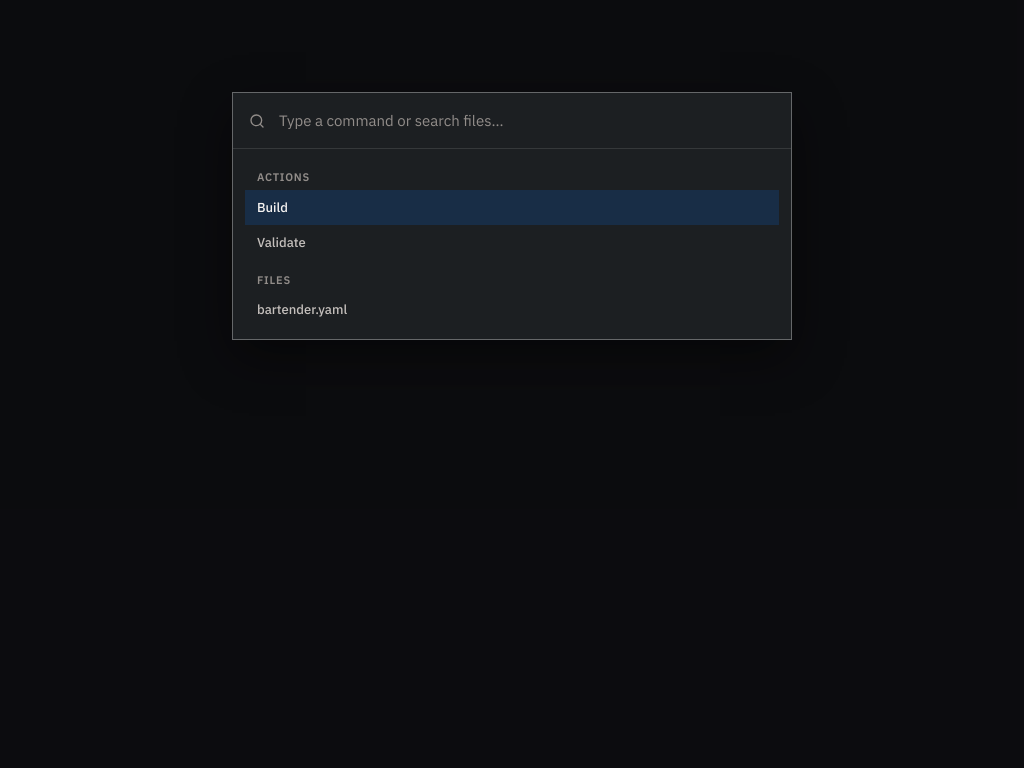
it: CommandPalette real interaction › typing filters to commands matching the query text
Type "valid" into the dropdown with placeholder "Type a command or search files…".
click(526, 121); type("valid")  # box [277, 93, 775, 148]
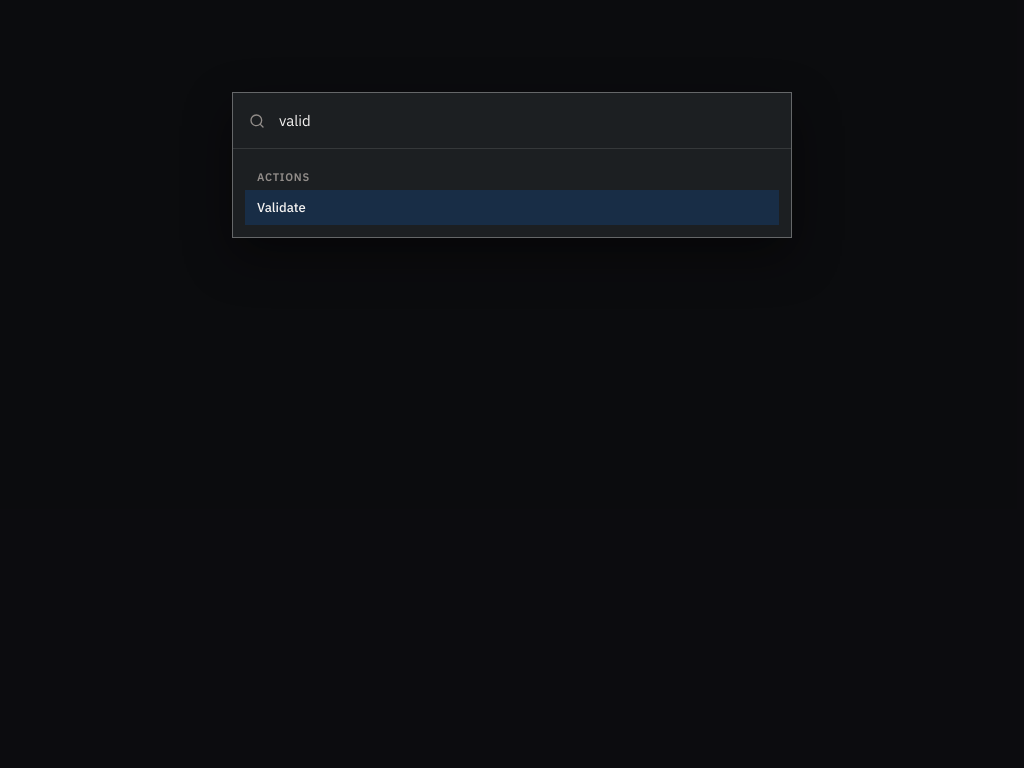
Expected: the text "Validate" is shown, [257, 199, 306, 216]
Result: the option "Build" is gone
Result: the option "bartender.yaml" is gone
